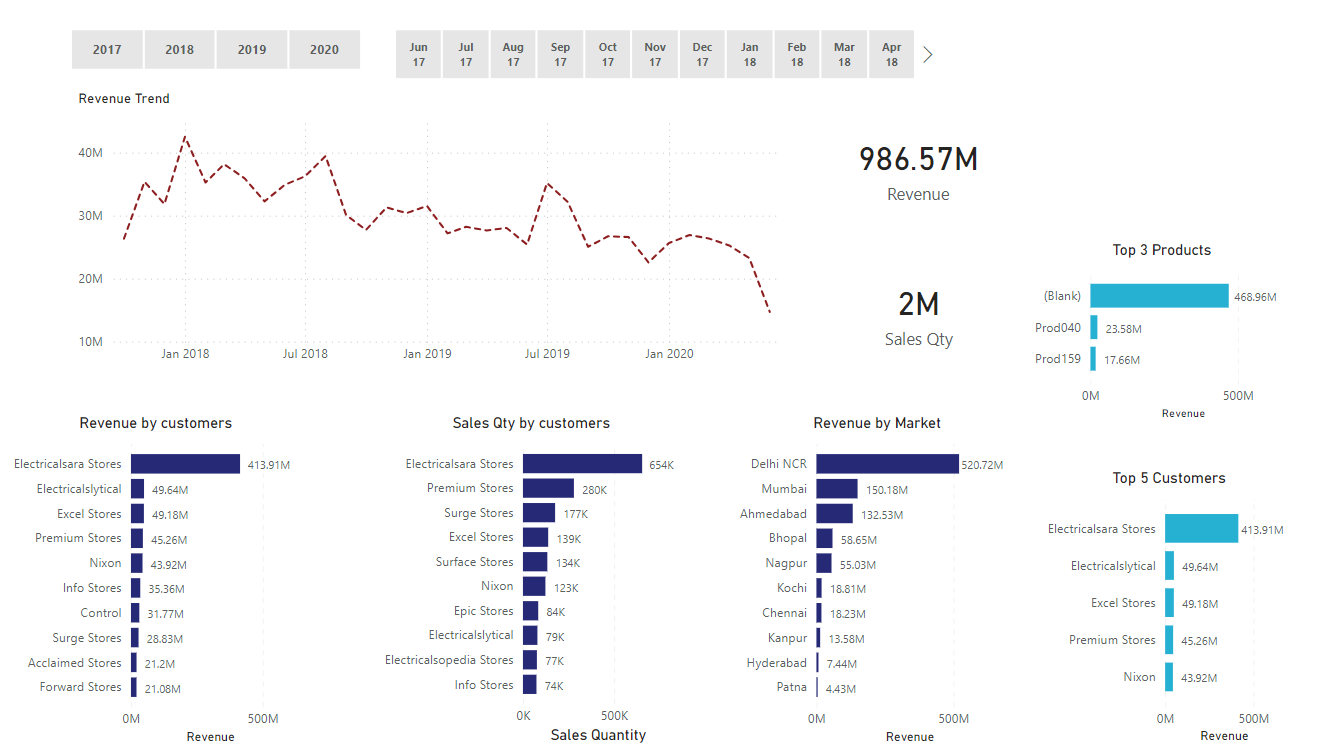

The dashboard page shown, as its layout file describes it:
{"tool":"powerbi","page":{"name":"Page 1","canvas":[1280,720],"ordinal":0},"visuals":[{"type":"card","fields":{"Values":["BaseMeasures.Revenue"]},"box":[802.8,100.1,162.3,124.4],"z":0},{"type":"card","fields":{"Values":["BaseMeasures.Sales Qty"]},"box":[815.4,241,138,118.6],"z":1000},{"type":"clusteredBarChart","title":"Revenue by customers","fields":{"Y":["BaseMeasures.Revenue"],"Category":["public customers.customer_name"]},"box":[0,399.4,301.3,320.6],"z":2000},{"type":"clusteredBarChart","title":"Sales Qty by customers","fields":{"Y":["BaseMeasures.Sales Qty"],"Category":["public customers.customer_name"]},"box":[355.7,399.5,312,320.7],"z":3000},{"type":"slicer","fields":{"Values":["public date.year"]},"box":[44.7,23.3,326.6,50.5],"z":4000},{"type":"slicer","title":"Month","fields":{"Values":["public date.cy_date"]},"box":[355.7,23.3,548.2,60.3],"z":5000},{"type":"clusteredBarChart","title":"Revenue by Market","fields":{"Y":["BaseMeasures.Revenue"],"Category":["public markets.markets_name"]},"box":[701.7,399.5,284.8,320.7],"z":6000},{"type":"clusteredBarChart","title":"Top 5 Customers","fields":{"Y":["BaseMeasures.Revenue"],"Category":["public customers.customer_name"]},"box":[976.8,451.9,261.4,268.2],"z":6001},{"type":"clusteredBarChart","title":"Top 3 Products","fields":{"Y":["BaseMeasures.Revenue"],"Category":["public products.product_code"]},"box":[986.5,232.3,263.4,175.9],"z":6002},{"type":"lineChart","title":"Revenue Trend","fields":{"Y":["BaseMeasures.Revenue"],"Category":["public date.cy_date.Variation.Date Hierarchy.Year","public date.cy_date.Variation.Date Hierarchy.Quarter","public date.cy_date.Variation.Date Hierarchy.Month","public date.cy_date.Variation.Date Hierarchy.Day"]},"box":[70.9,88.4,698.8,271.2],"z":6003}]}

Visuals, with their boxes in screenshot pixels (x1, y1, x2, y2), scaled from the page's 1280x720 canvas onto the 1327x746 screenshot:
card - BaseMeasures.Revenue: {"x1": 832, "y1": 104, "x2": 1001, "y2": 233}
card - BaseMeasures.Sales Qty: {"x1": 845, "y1": 250, "x2": 988, "y2": 373}
"Revenue by customers" clusteredBarChart: {"x1": 0, "y1": 414, "x2": 312, "y2": 745}
"Sales Qty by customers" clusteredBarChart: {"x1": 369, "y1": 414, "x2": 692, "y2": 745}
slicer - public date.year: {"x1": 46, "y1": 24, "x2": 385, "y2": 76}
"Month" slicer: {"x1": 369, "y1": 24, "x2": 937, "y2": 87}
"Revenue by Market" clusteredBarChart: {"x1": 727, "y1": 414, "x2": 1023, "y2": 745}
"Top 5 Customers" clusteredBarChart: {"x1": 1013, "y1": 468, "x2": 1284, "y2": 745}
"Top 3 Products" clusteredBarChart: {"x1": 1023, "y1": 241, "x2": 1296, "y2": 423}
"Revenue Trend" lineChart: {"x1": 74, "y1": 92, "x2": 798, "y2": 373}
